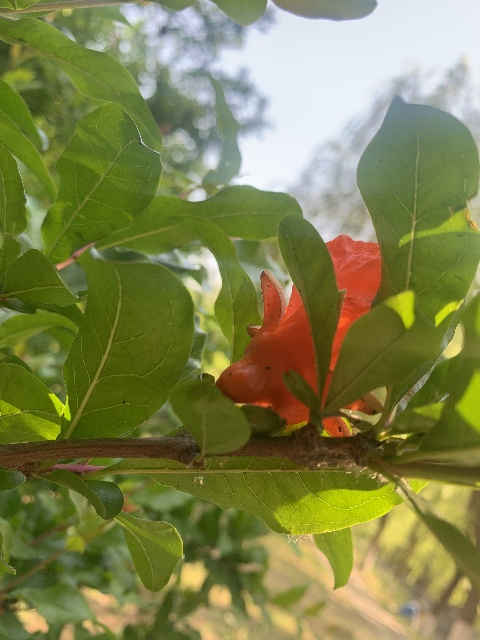flower: (216, 233, 386, 436)
